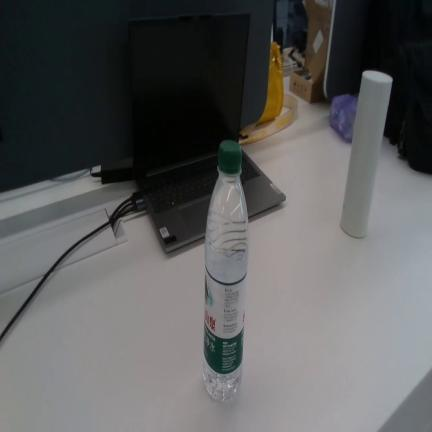bottle: (203, 140, 248, 401)
